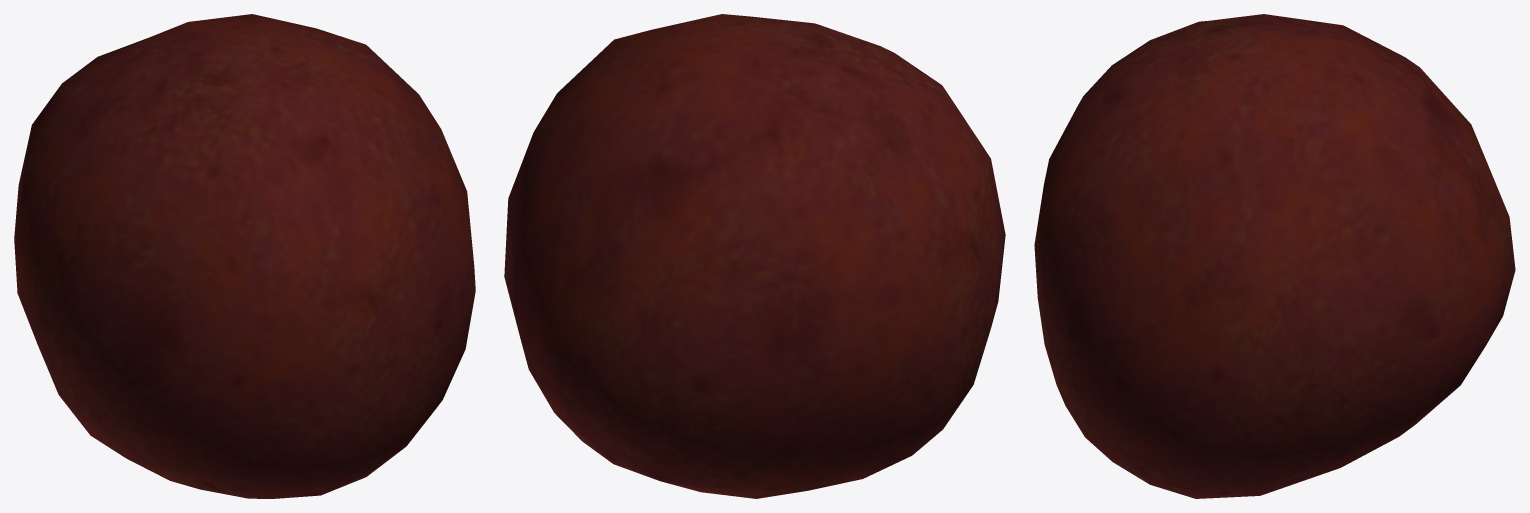
The model's file is Potato_30.obj.
3 views of the same model, side by side, from view 1: azimuth 30°, elevation 25°; view 2: azimuth 150°, elevation 25°; view 3: azimuth 270°, elevation 25° (orthographic). The views are drawn at different scales.
Visible parts, largest first — view 1: potato_c10; view 2: potato_c10; view 3: potato_c10.
Boxes of the visible parts, <box> form: potato_c10: <box>14,14,475,498</box>; potato_c10: <box>504,14,1005,498</box>; potato_c10: <box>1034,14,1515,498</box>.
Size of the model in its own units: 0.0781 by 0.0779 by 0.0796.
